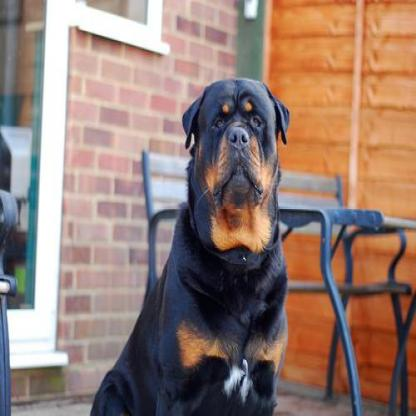Rottweiler: (82, 75, 290, 414)
